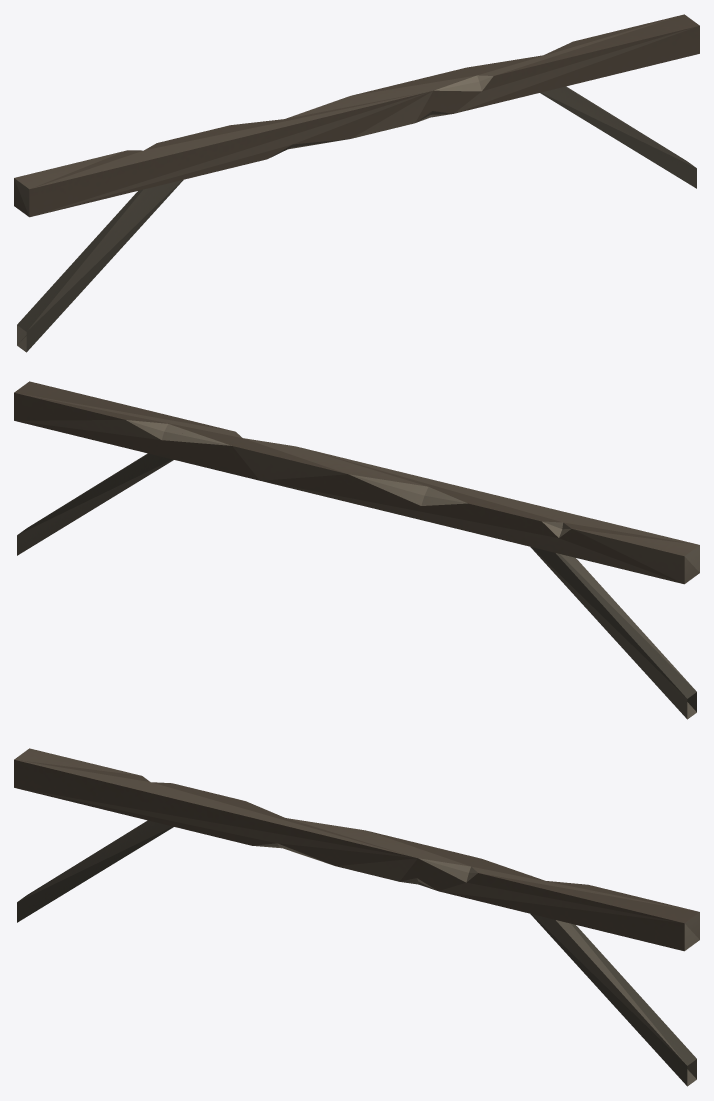
File: Wood_3.fbx
3 renders of one model, top to bottom at view 1: azimuth 30°, elevation 25°; view 2: azimuth 150°, elevation 25°; view 3: azimuth 330°, elevation 25°, orthographic.
Parts seen in each view (by area): view 1: polySurface1410; view 2: polySurface1410; view 3: polySurface1410.
Part boxes in pixels (box(x1,y1,x2,y2)): polySurface1410: box(14, 14, 699, 352); polySurface1410: box(14, 381, 699, 719); polySurface1410: box(14, 748, 699, 1086).
Bounding box in the file's own units: 10 × 2.36 × 0.4.
